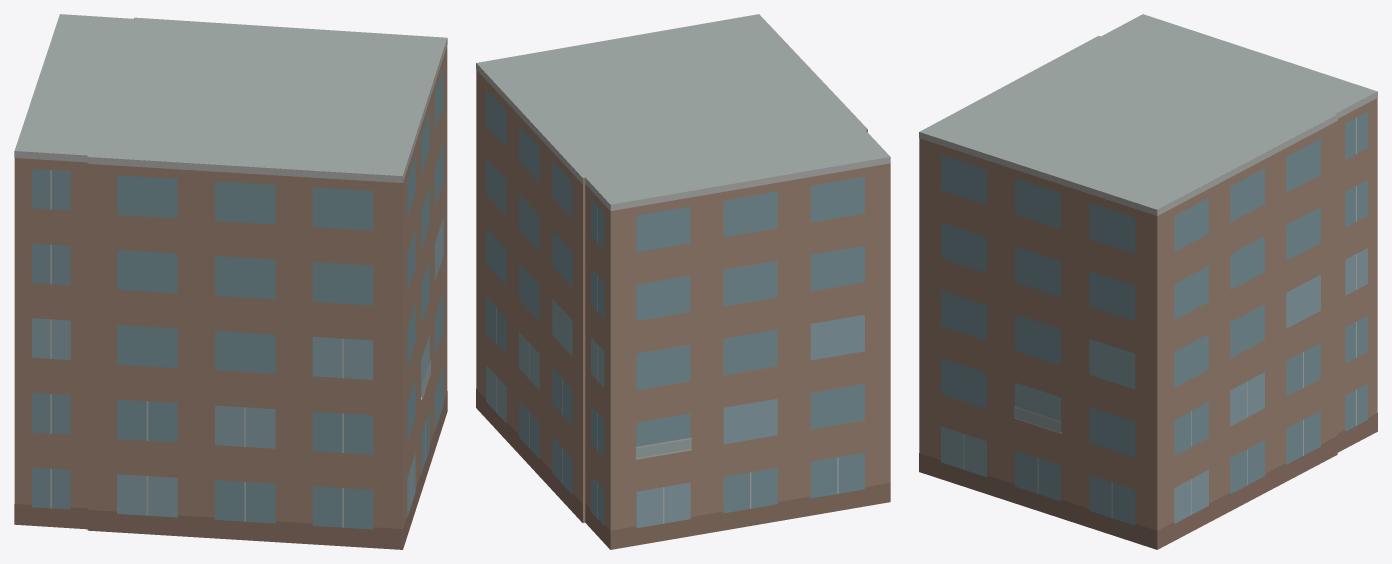
The model's file is survey-upis-32649159.glb.
The picture shows the model from 3 angles, left to right: view 1: azimuth 30°, elevation 25°; view 2: azimuth 150°, elevation 25°; view 3: azimuth 270°, elevation 25°; orthographic projection. The views are drawn at different scales.
Parts seen in each view (by area): view 1: survey-upis-32649159.tmp; view 2: survey-upis-32649159.tmp; view 3: survey-upis-32649159.tmp.
Part boxes in pixels (x1,y1,x2,y2): survey-upis-32649159.tmp: (14, 14, 447, 549); survey-upis-32649159.tmp: (476, 14, 890, 549); survey-upis-32649159.tmp: (919, 14, 1377, 549).
Bounding box in the file's own units: 16.31 × 13.2 × 16.14.
